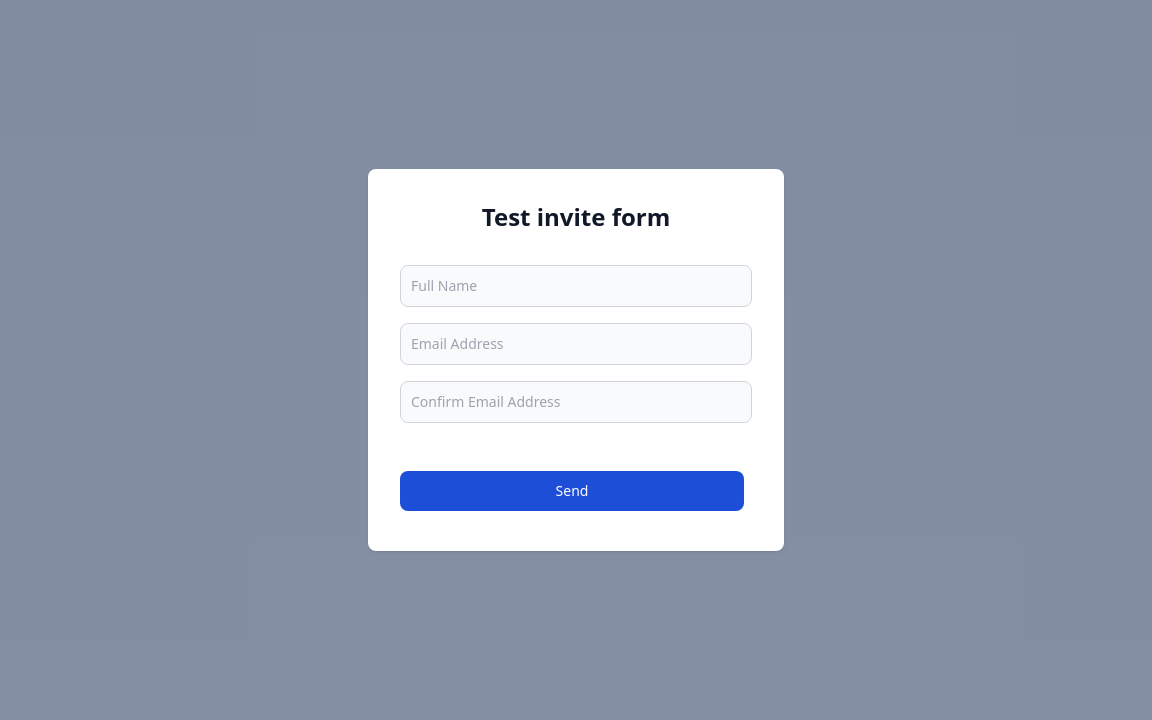
Component: InviteModal -> › Show error message when user enter full name less than 3 characters
Type "ab" into the field with placeholder "Full Name".
click(576, 286); type("ab")  # box [400,265,752,307]
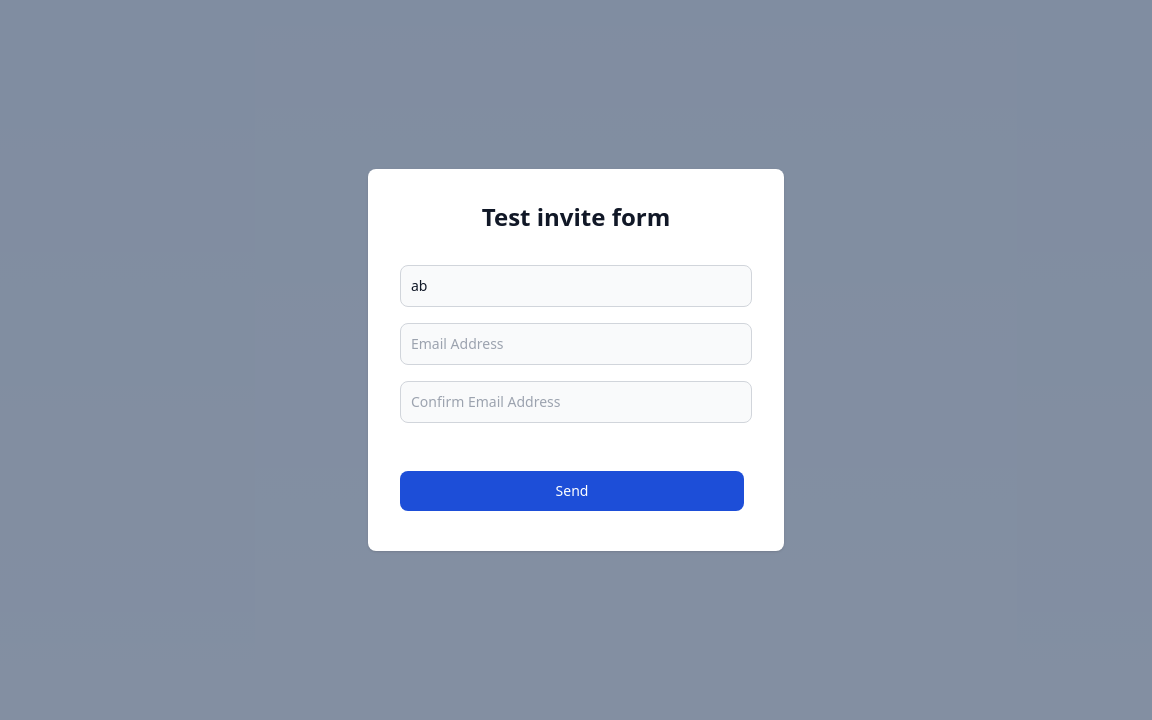
Type "george@test.com" into the field with placeholder "Email Address".
click(576, 344); type("george@test.com")  # box [400,323,752,365]
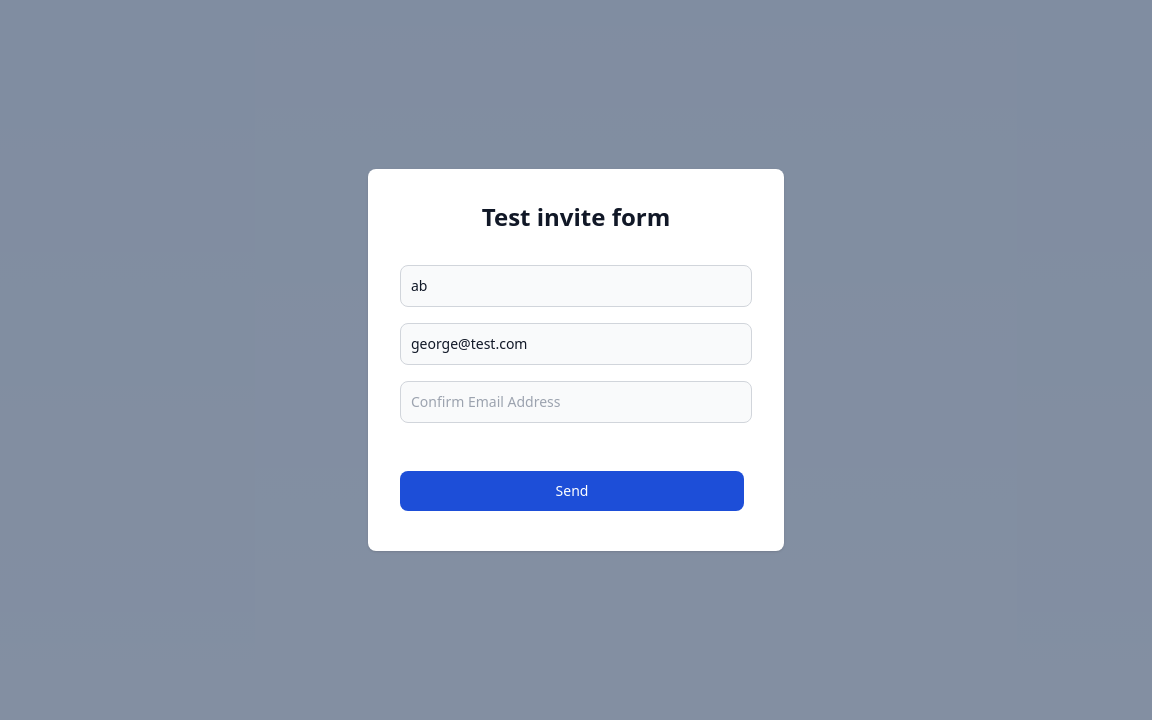
Type "george@test.com" into the field with placeholder "Confirm Email Address".
click(576, 402); type("george@test.com")  # box [400,381,752,423]
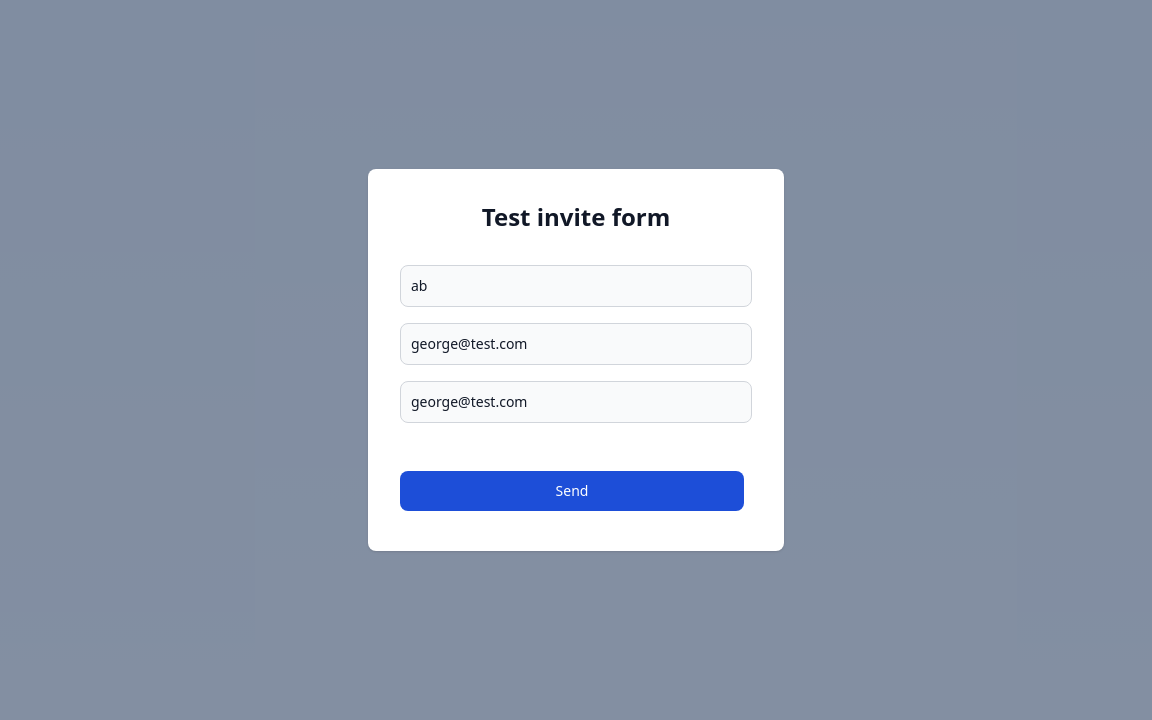
Click the button "Send".
click(572, 491)  # box [400,471,744,511]
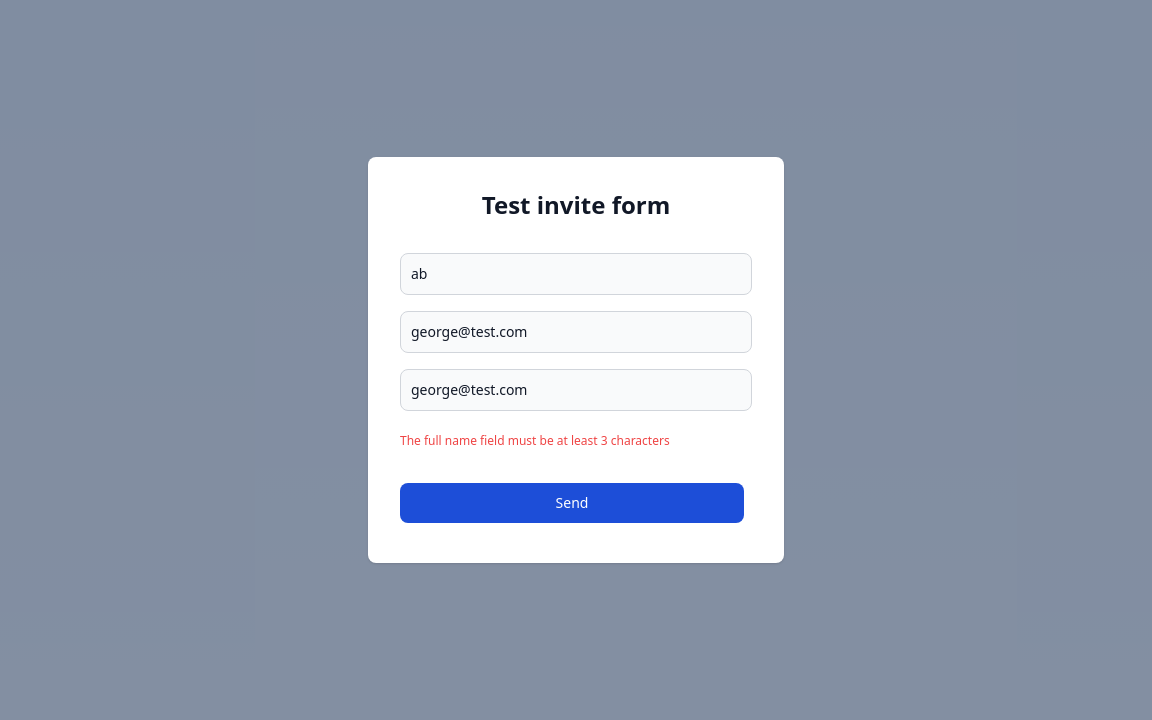
Check: the text "The full name field must be at least 3 characters" is shown, box [400,432,670,449]
